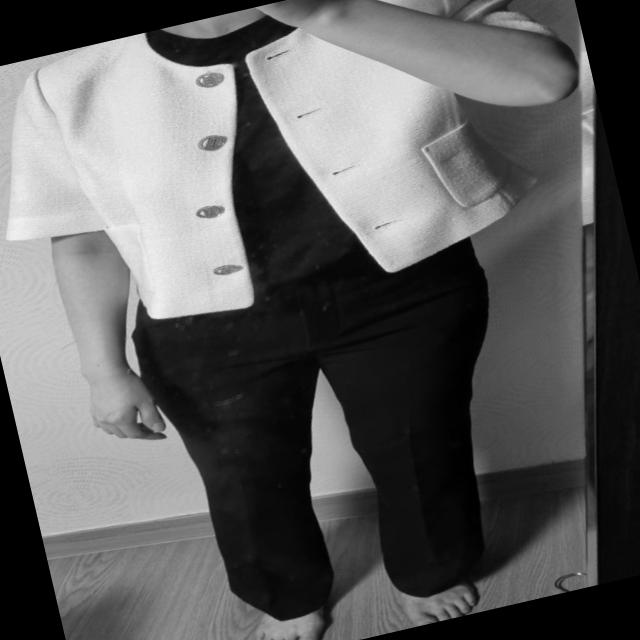blazer: (0, 0, 610, 357)
slacks: (120, 214, 557, 640)
